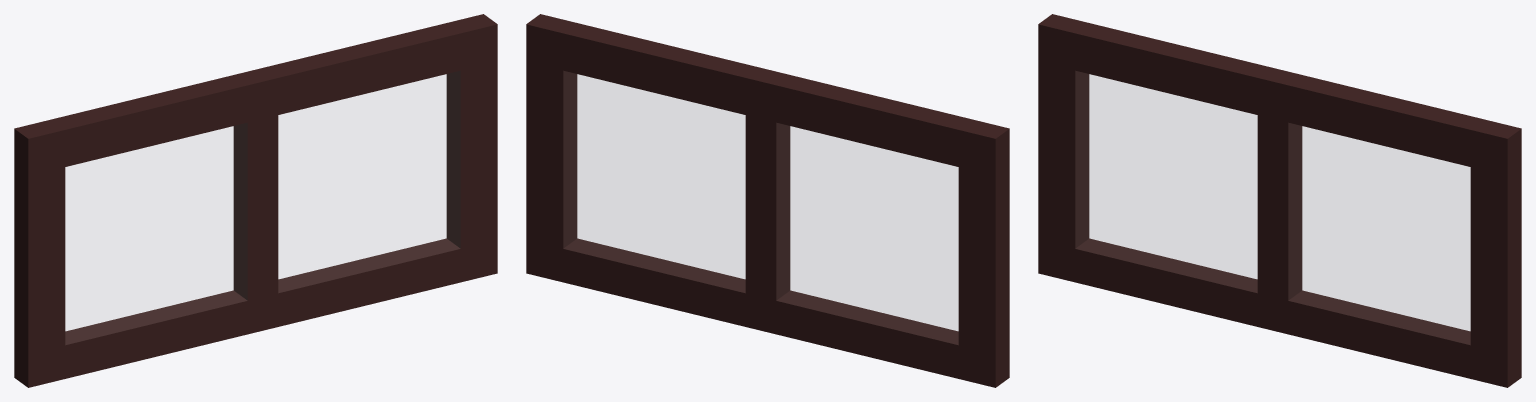
File: Window.fbx
The picture shows the model from 3 angles, left to right: view 1: azimuth 30°, elevation 25°; view 2: azimuth 150°, elevation 25°; view 3: azimuth 330°, elevation 25°; orthographic projection.
Visible parts, largest first — view 1: Window; view 2: Window; view 3: Window.
Part boxes in pixels (x1,y1,x2,y2): Window: (14,14,497,387); Window: (526,14,1009,387); Window: (1038,14,1521,387).
Bounding box in the file's own units: 1.34 × 0.6802 × 0.07.
